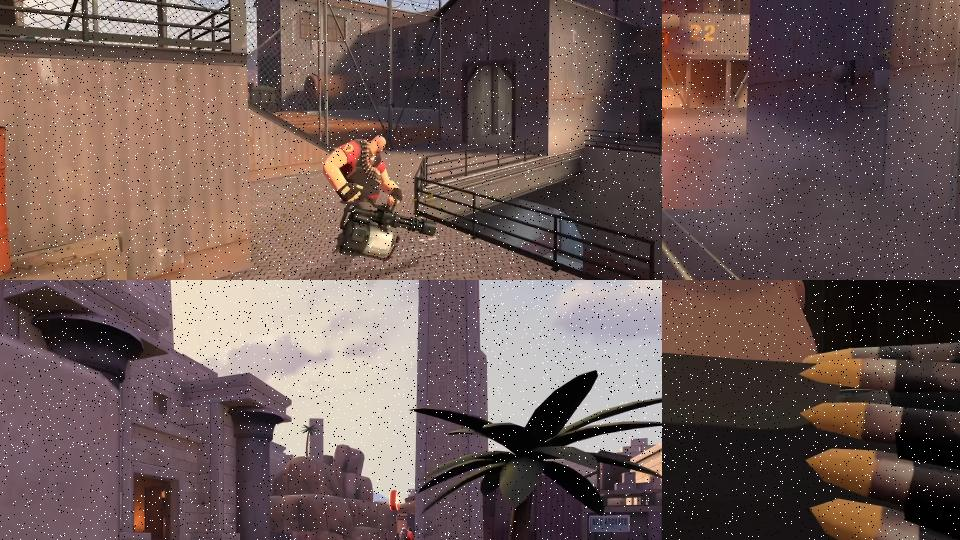Enemy: (662, 280, 960, 540), (320, 134, 440, 262), (397, 526, 414, 540)
